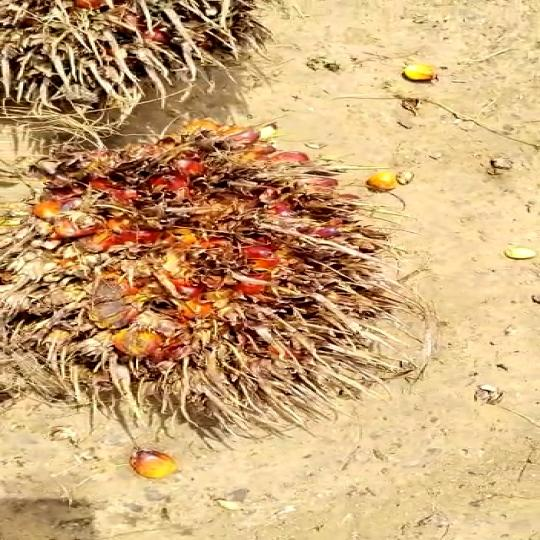terlalu masak: (0, 124, 423, 468)
